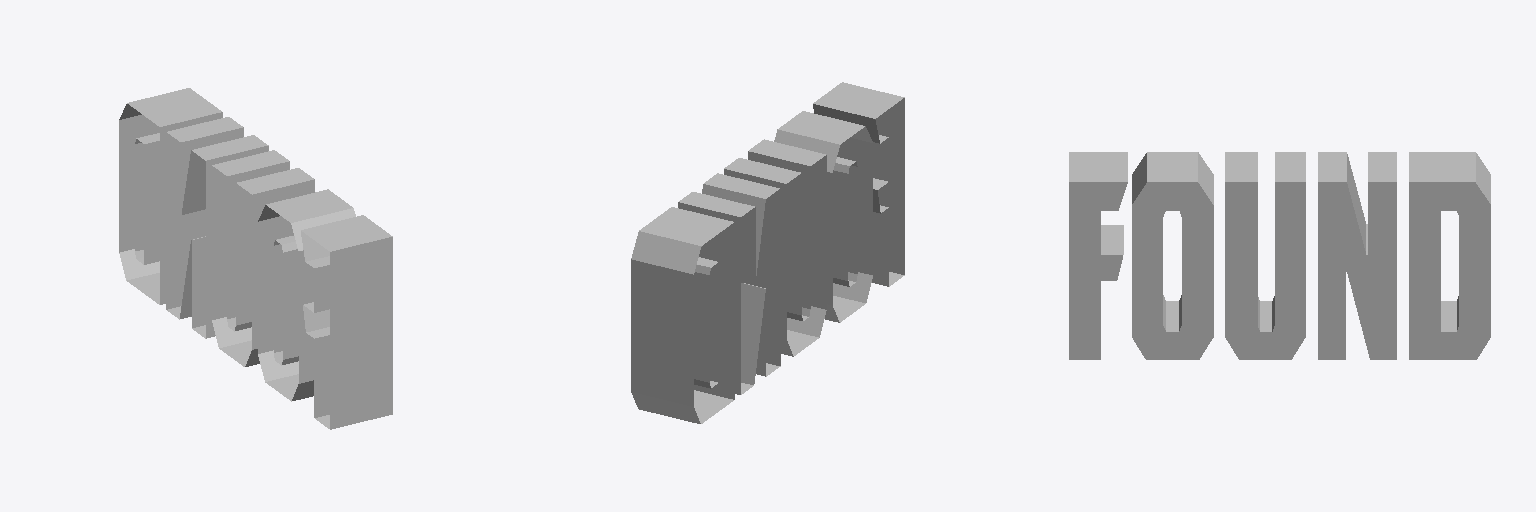
File: typemesh_found.obj
3 renders of one model, left to right at view 1: azimuth 30°, elevation 25°; view 2: azimuth 150°, elevation 25°; view 3: azimuth 270°, elevation 25°, orthographic.
Parts seen in each view (by area): view 1: typeMesh_found group2; view 2: typeMesh_found group2; view 3: typeMesh_found group2.
Part boxes in pixels (x1,y1,x2,y2): typeMesh_found group2: (119,88,392,429); typeMesh_found group2: (631,82,904,423); typeMesh_found group2: (1069,152,1490,359).
Size of the model in its own units: 0.0739 by 0.1999 by 0.4296.